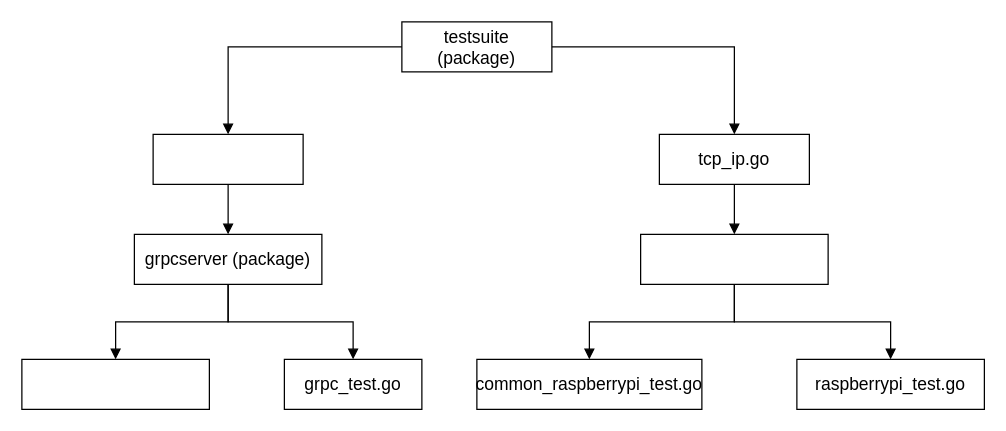
This 1006x431 diagram has some shape labels left out. Here are the shapes that lost their labels. From the top down, the box of each, then its label:
(152, 133, 303, 184): setup_grpc.go
(639, 233, 828, 284): raspberrypi (package)
(21, 358, 209, 409): common_grpc_test.go
